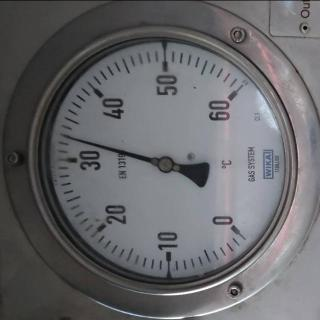gauge: (0, 4, 320, 318), (215, 212, 248, 244), (214, 83, 244, 113), (156, 154, 176, 174), (56, 129, 72, 141)
